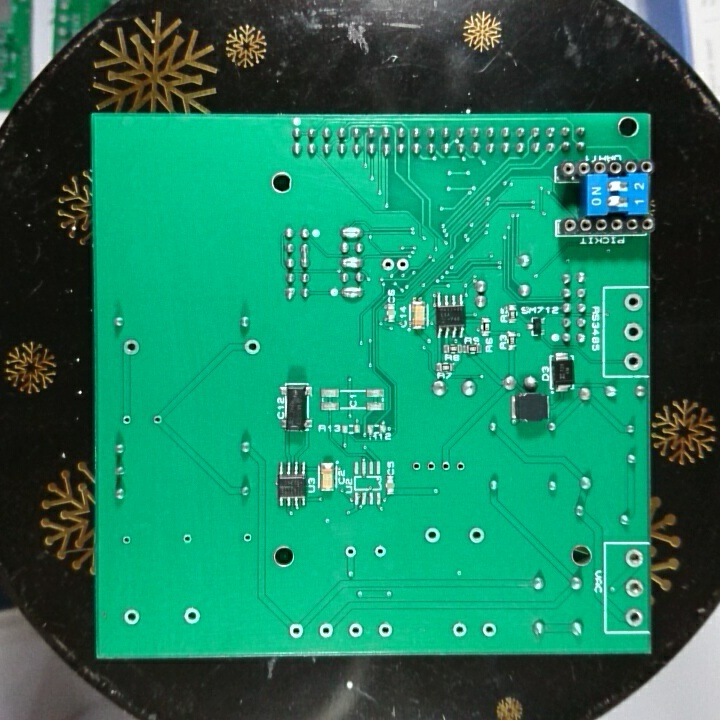F: (622, 289, 646, 315), (464, 523, 489, 546), (623, 576, 646, 600), (119, 335, 142, 359), (622, 320, 644, 345), (623, 546, 645, 571), (621, 350, 644, 373), (420, 523, 443, 546), (179, 604, 203, 626), (622, 605, 643, 629), (120, 606, 144, 627), (241, 335, 263, 357), (371, 540, 390, 564), (449, 619, 470, 640), (375, 619, 396, 640), (479, 620, 501, 640), (316, 620, 337, 640), (285, 620, 305, 641), (340, 541, 359, 563), (346, 620, 365, 640), (178, 529, 196, 549), (437, 456, 455, 475), (395, 255, 411, 275), (408, 455, 423, 476), (238, 529, 256, 546), (453, 456, 468, 476), (379, 255, 396, 272), (149, 412, 166, 429), (118, 530, 133, 549), (423, 456, 438, 475), (118, 412, 134, 429)
P: (338, 223, 368, 241), (339, 284, 366, 303), (297, 240, 312, 272), (337, 255, 366, 271)
